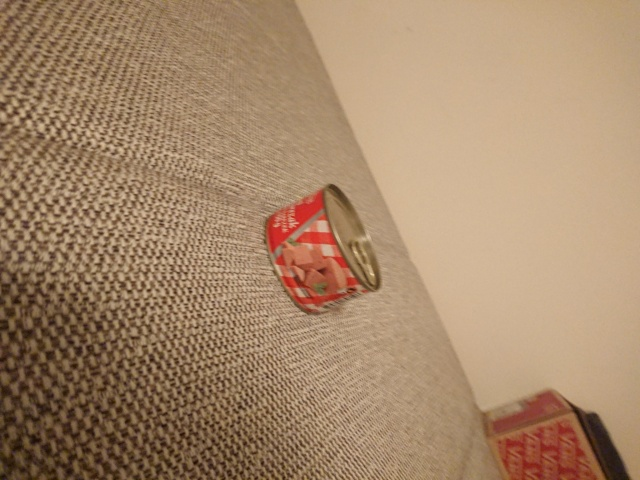Podravka Luncheon Meat 150g: (261, 181, 385, 318)
